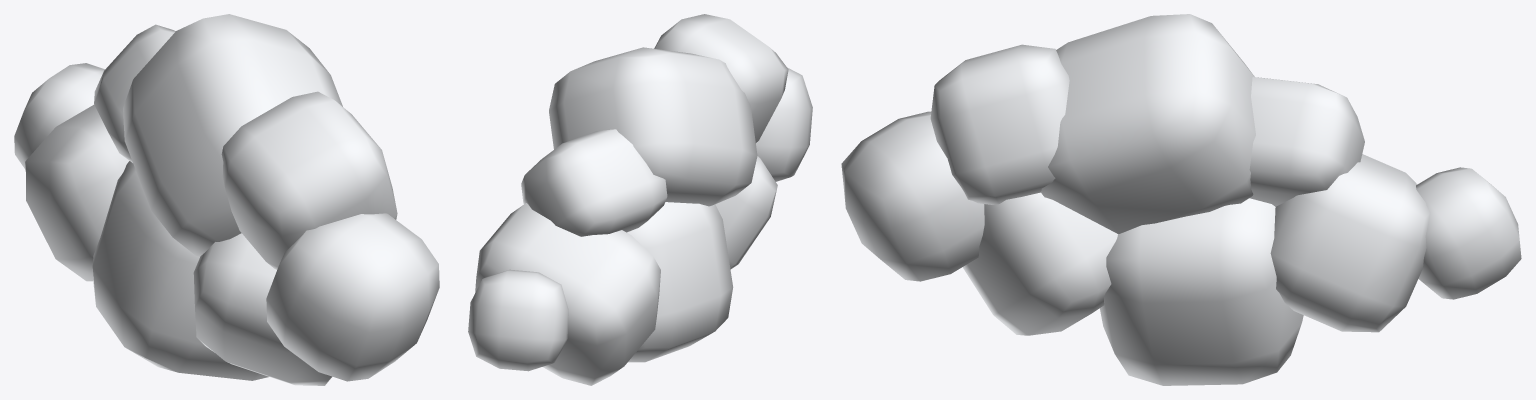
File: cloud_geo.fbx
3 renders of one model, left to right at view 1: azimuth 30°, elevation 25°; view 2: azimuth 150°, elevation 25°; view 3: azimuth 270°, elevation 25°, orthographic. The views are drawn at different scales.
Parts seen in each view (by area): view 1: cloud_geo; view 2: cloud_geo; view 3: cloud_geo.
Boxes of the visible parts, x1,y1,x2,y2 form: cloud_geo: [14, 14, 439, 385]; cloud_geo: [468, 14, 812, 385]; cloud_geo: [841, 14, 1521, 385].
Bounding box in the file's own units: 1.55 × 2.61 × 4.62.
